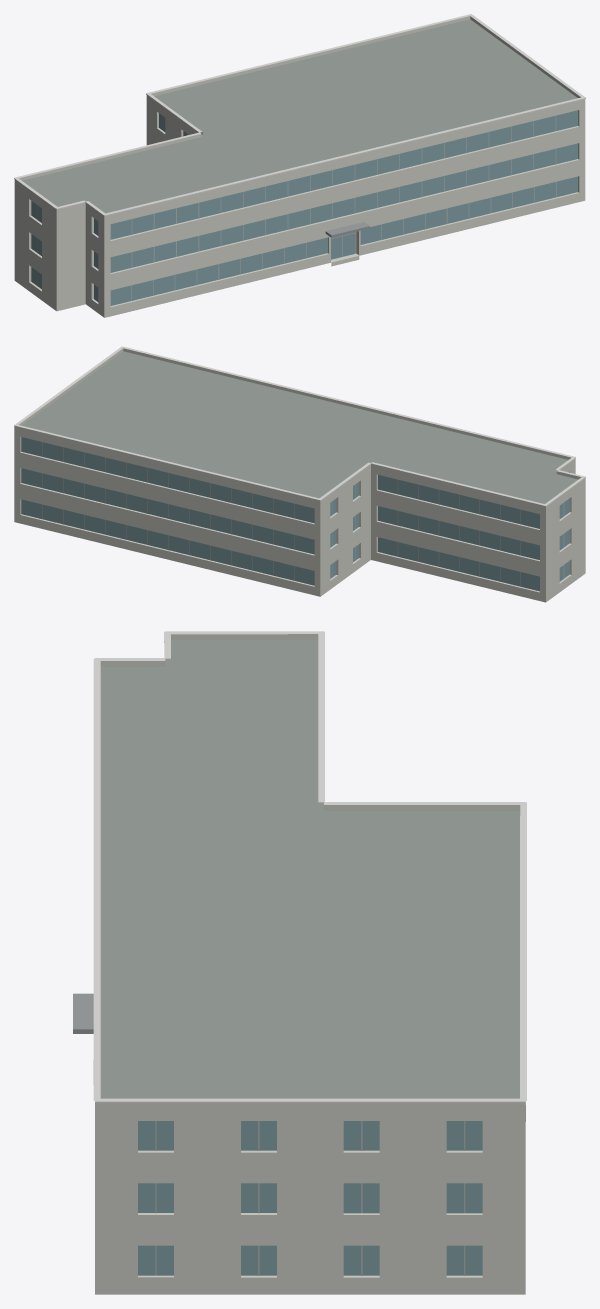
The picture shows the model from 3 angles, top to bottom: view 1: azimuth 30°, elevation 25°; view 2: azimuth 150°, elevation 25°; view 3: azimuth 270°, elevation 25°; orthographic projection. The views are drawn at different scales.
Visible parts, largest first — view 1: osm761589245__roof, osm761589245__wall, osm761589245__glass, osm761589245__parapet, osm761589245__trim, osm761589245__frame; view 2: osm761589245__roof, osm761589245__wall, osm761589245__glass, osm761589245__parapet, osm761589245__trim, osm761589245__frame; view 3: osm761589245__roof, osm761589245__wall, osm761589245__glass, osm761589245__trim, osm761589245__parapet, osm761589245__canopy.
Boxes of the visible parts, left/top/right/bottom form: osm761589245__roof: left=18, top=19, right=584, bottom=317; osm761589245__wall: left=14, top=97, right=585, bottom=317; osm761589245__glass: left=31, top=110, right=577, bottom=305; osm761589245__parapet: left=14, top=16, right=585, bottom=218; osm761589245__trim: left=14, top=14, right=585, bottom=216; osm761589245__frame: left=37, top=116, right=556, bottom=301; osm761589245__roof: left=17, top=351, right=584, bottom=602; osm761589245__wall: left=14, top=428, right=585, bottom=602; osm761589245__glass: left=21, top=437, right=569, bottom=591; osm761589245__parapet: left=14, top=348, right=585, bottom=508; osm761589245__trim: left=14, top=346, right=585, bottom=506; osm761589245__frame: left=42, top=442, right=564, bottom=586; osm761589245__roof: left=95, top=640, right=525, bottom=1294; osm761589245__wall: left=95, top=1101, right=525, bottom=1294; osm761589245__glass: left=138, top=1121, right=482, bottom=1275; osm761589245__trim: left=93, top=631, right=526, bottom=1103; osm761589245__parapet: left=95, top=634, right=525, bottom=1107; osm761589245__canopy: left=73, top=993, right=93, bottom=1033.
Size of the model in its own units: 58.19 by 11.55 by 23.74.
